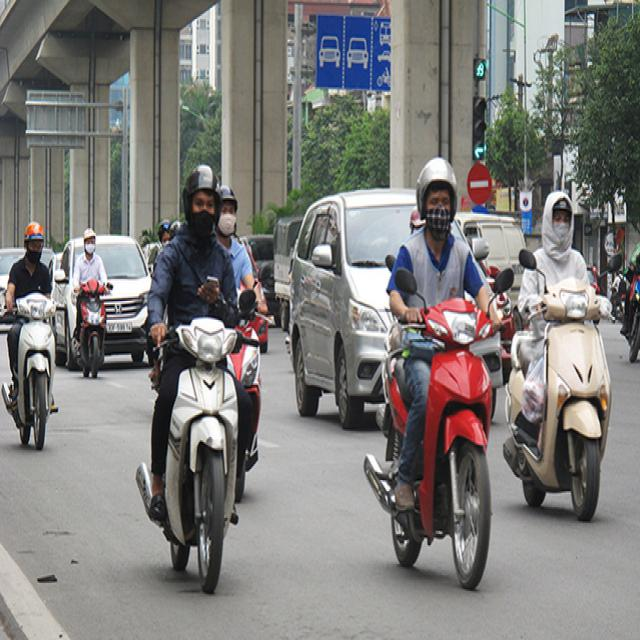3-4-helmet: (415, 156, 458, 222), (184, 165, 222, 223)
